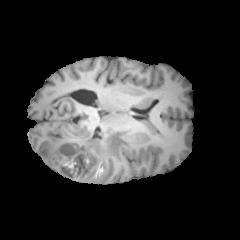glioma: (40, 127, 129, 182)
